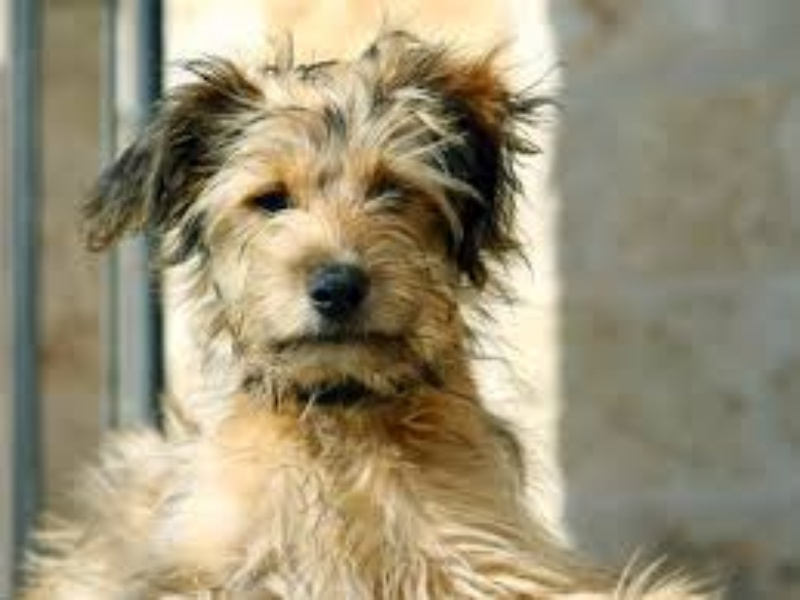dog: (74, 28, 570, 600)
